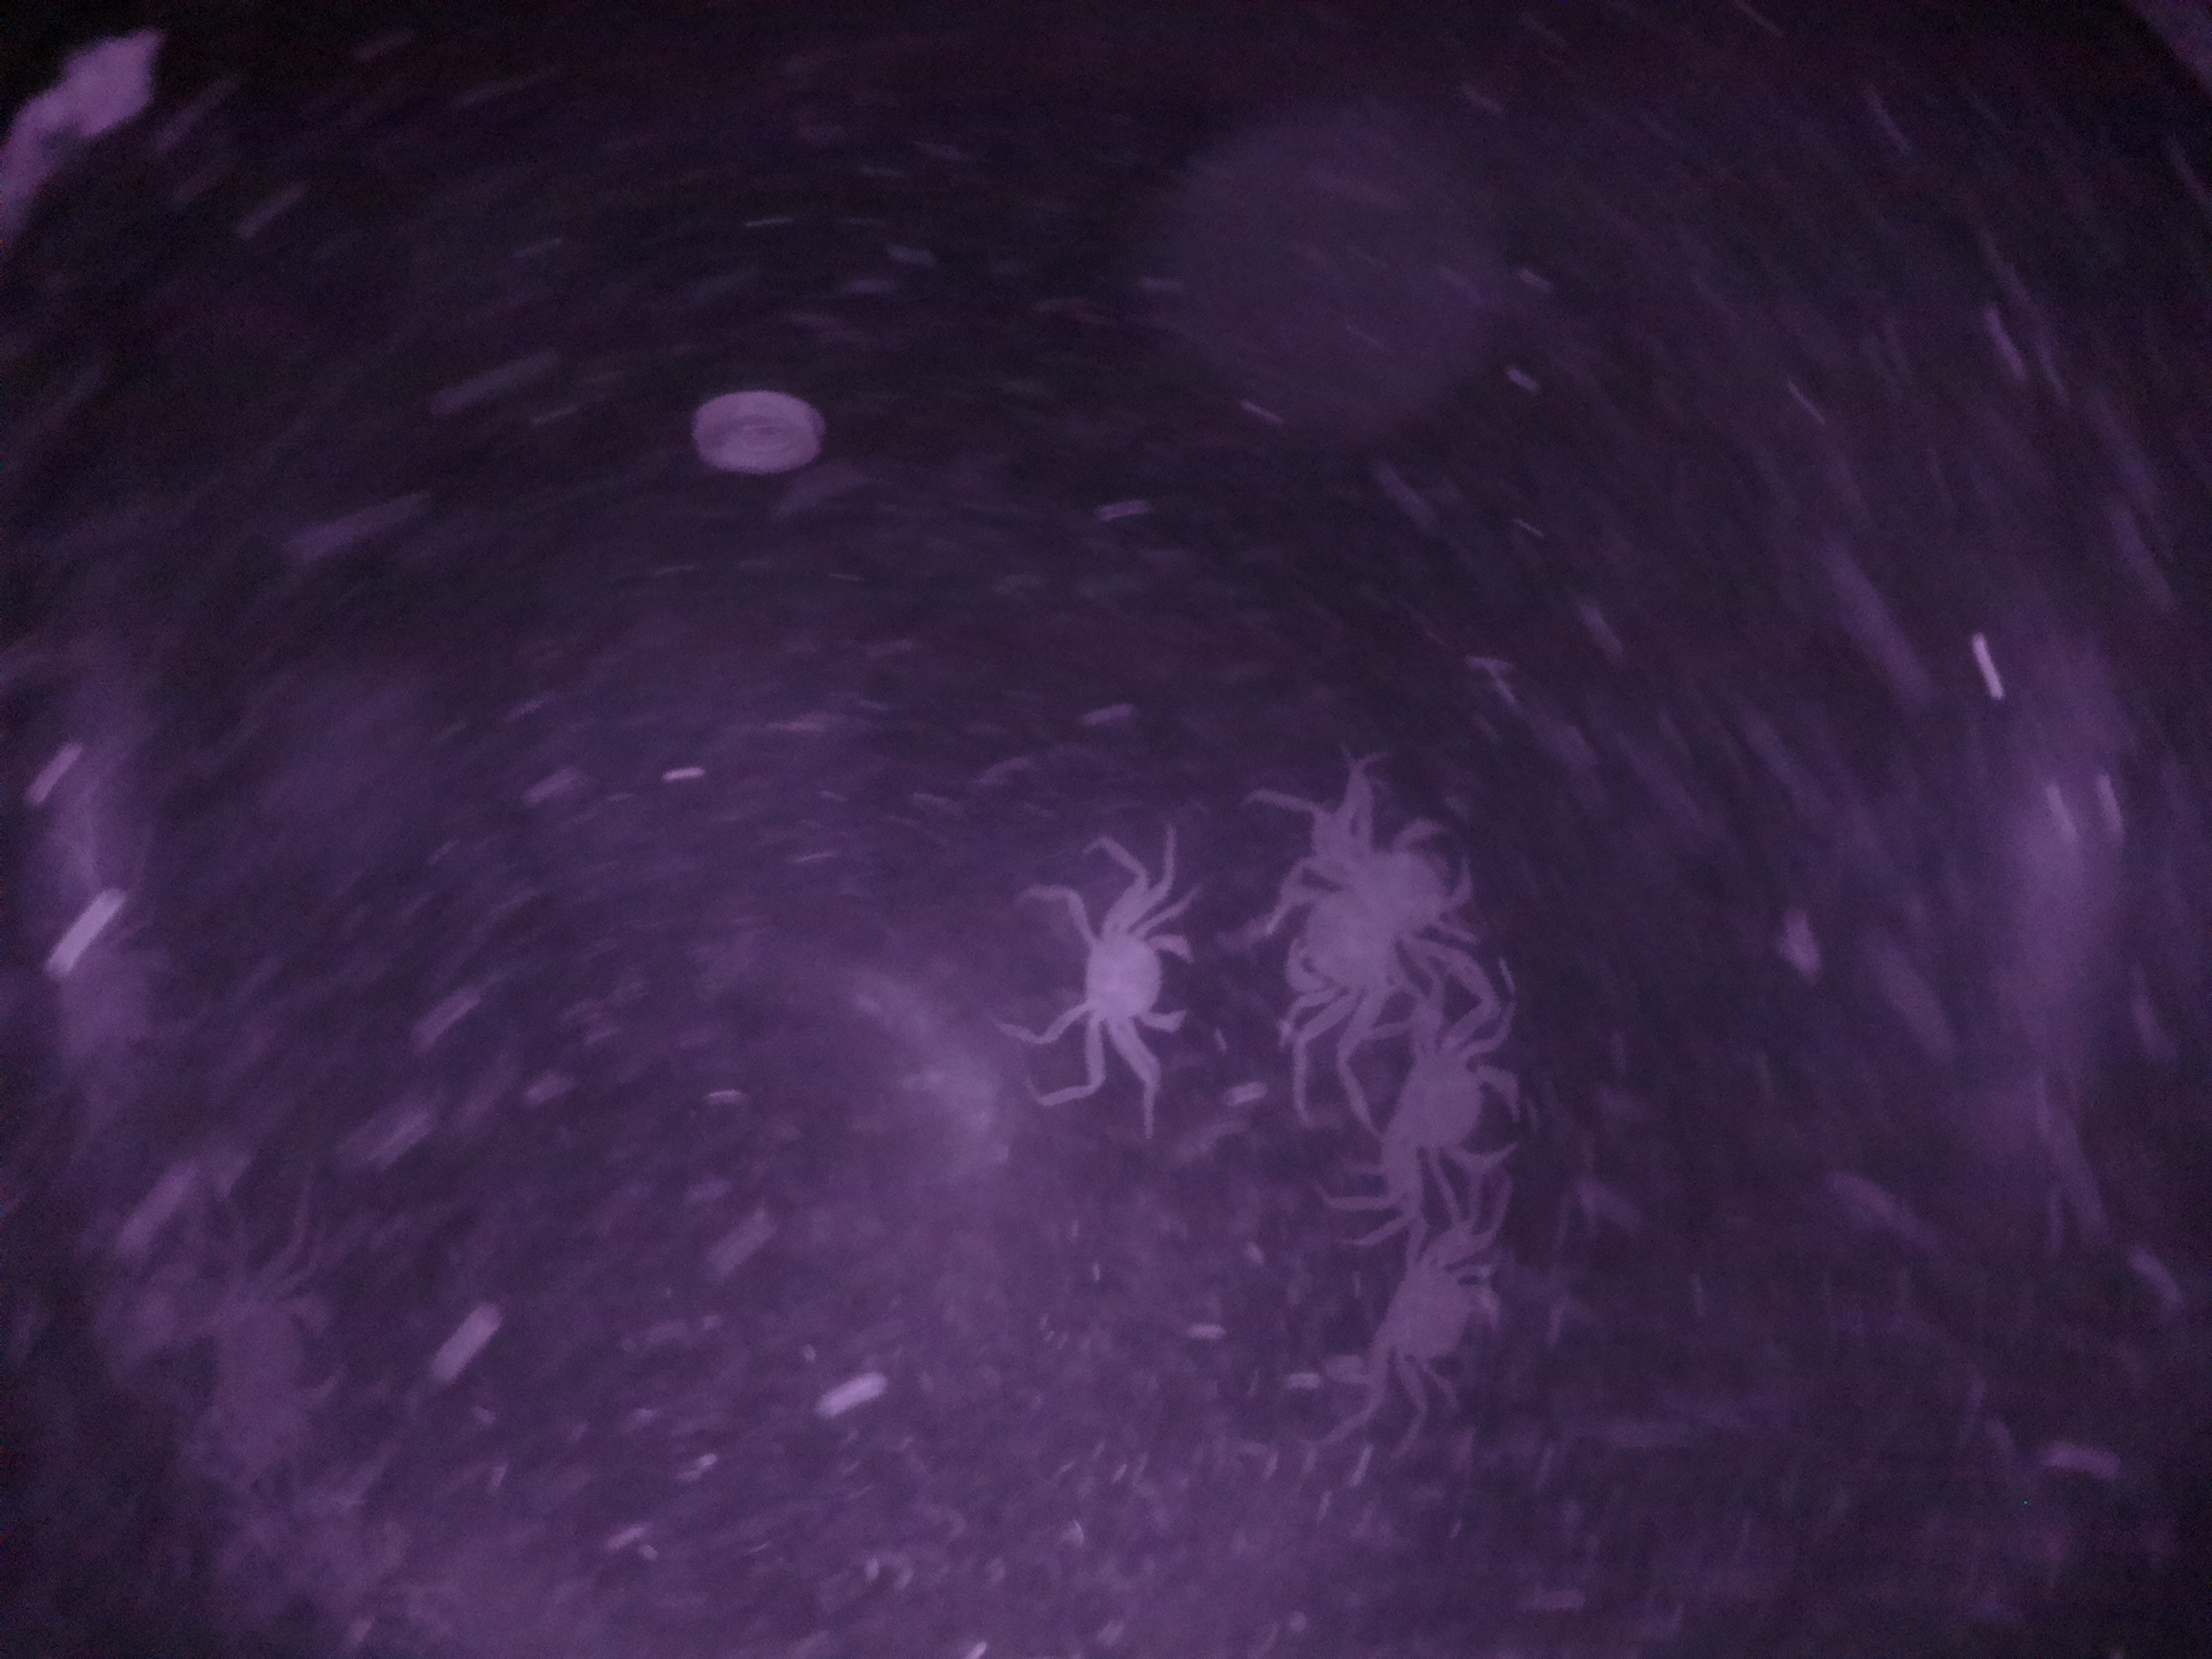Crab: (1352, 988, 1554, 1211), (1026, 892, 1224, 1070)
